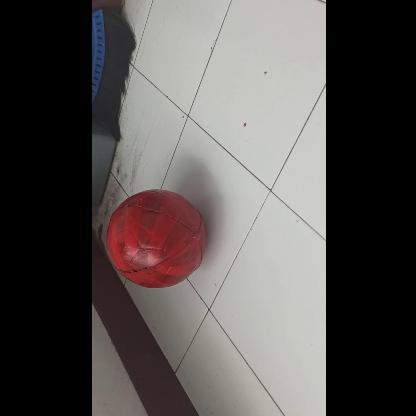red_ball: (108, 188, 206, 288)
